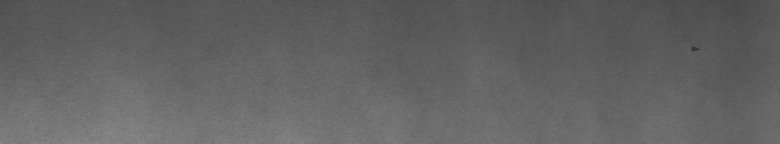fi: (691, 47, 700, 56)
